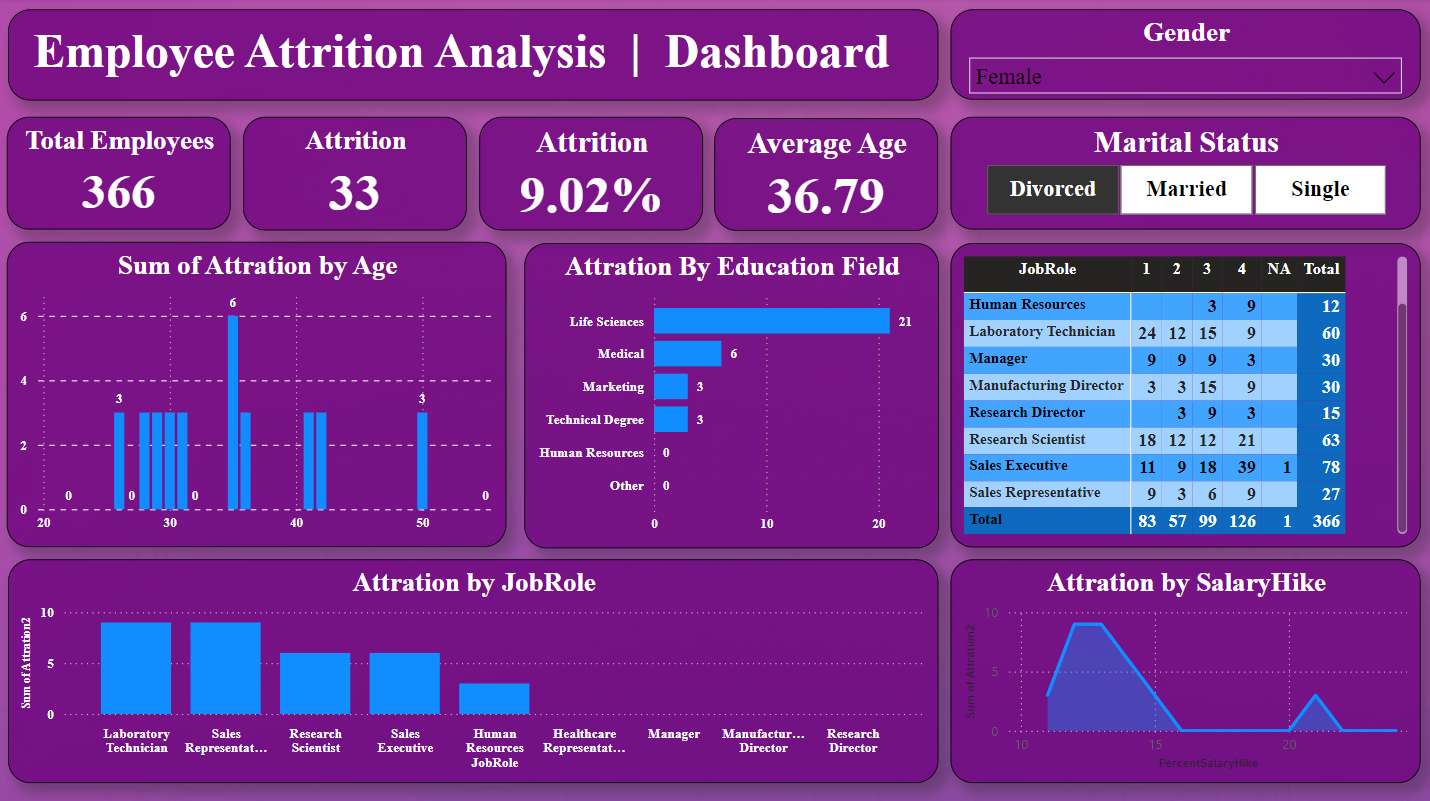

The dashboard page shown, as its layout file describes it:
{"tool":"powerbi","page":{"name":"Page 1","canvas":[1280,720],"ordinal":0},"visuals":[{"type":"card","title":"Total Employees","fields":{"Values":["Sum(Attrition data.EmployeeCount)"]},"box":[8.1,105.8,200,101.2],"z":0},{"type":"card","title":"Attrition","fields":{"Values":["Sum(Attrition data.Attration2)"]},"box":[218.6,105.7,200,101.4],"z":1000},{"type":"card","title":"Attrition","fields":{"Values":["Attrition data.Attrition Percentage"]},"box":[430,105.7,200,101.4],"z":2000},{"type":"card","title":"Average Age","fields":{"Values":["Avg(Attrition data.Age)"]},"box":[640,106.7,200,101.1],"z":3000},{"type":"clusteredBarChart","title":"Attration By Education Field","fields":{"Category":["Attrition data.EducationField"],"Y":["Sum(Attrition data.Attration2)"]},"box":[470,218.6,370,272.9],"z":4000},{"type":"columnChart","title":"Sum of Attration by Age","fields":{"Category":["Attrition data.Age"],"Y":["Sum(Attrition data.Attration2)"]},"box":[8.2,218.2,446.5,272.9],"z":5000},{"type":"textbox","box":[8.6,10,831.4,81.4],"z":6000},{"type":"columnChart","title":"Attration by JobRole","fields":{"Y":["Sum(Attrition data.Attration2)"],"Category":["Attrition data.JobRole"]},"box":[8.9,501.1,831.1,200],"z":7000},{"type":"areaChart","title":"Attration by SalaryHike","fields":{"Category":["Attrition data.PercentSalaryHike"],"Y":["Sum(Attrition data.Attration2)"]},"box":[851.1,501.1,420,200],"z":8000},{"type":"pivotTable","fields":{"Rows":["Attrition data.JobRole"],"Columns":["Attrition data.JobSatisfaction"],"Values":["Sum(Attrition data.EmployeeCount)"]},"box":[851.1,218.9,420,272.2],"z":9000},{"type":"slicer","title":"Gender","fields":{"Values":["Attrition data.Gender"]},"box":[851.1,10,420,81.1],"z":10000},{"type":"slicer","title":"Marital Status","fields":{"Values":["Attrition data.MaritalStatus"]},"box":[851.1,105.6,420,101.1],"z":11000}]}

Visuals, with their boxes in screenshot pixels (x1, y1, x2, y2), scaled from the page's 1280x720 canvas onto the 1430x801 screenshot:
"Total Employees" card: 9:118:232:230
"Attrition" card: 244:118:468:230
"Attrition" card: 480:118:704:230
"Average Age" card: 715:119:938:231
"Attration By Education Field" clusteredBarChart: 525:243:938:547
"Sum of Attration by Age" columnChart: 9:243:508:546
textbox: 10:11:938:102
"Attration by JobRole" columnChart: 10:557:938:780
"Attration by SalaryHike" areaChart: 951:557:1420:780
pivotTable - Attrition data.JobRole x Attrition data.JobSatisfaction: 951:244:1420:546
"Gender" slicer: 951:11:1420:101
"Marital Status" slicer: 951:117:1420:230
